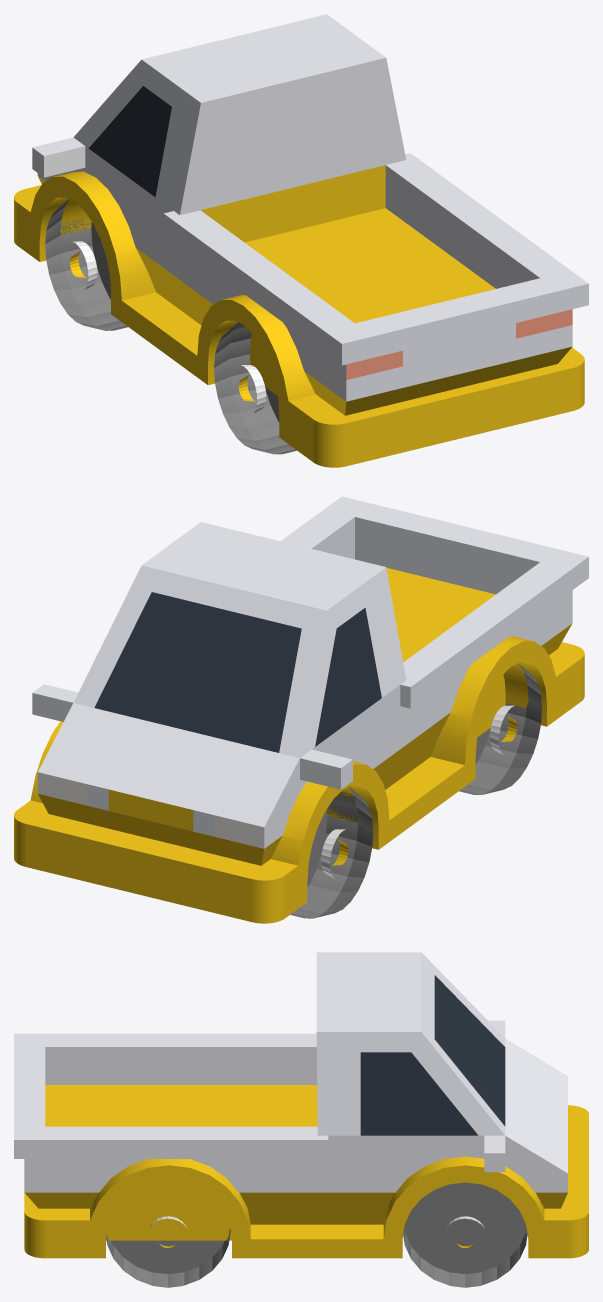
Rendered from truckFlat.glb.
3 views of the same model, one above another, from view 1: azimuth 30°, elevation 25°; view 2: azimuth 150°, elevation 25°; view 3: azimuth 270°, elevation 25° (orthographic). The views are drawn at different scales.
Parts seen in each view (by area): view 1: body; view 2: body; view 3: body.
Boxes of the visible parts, x1,y1,x2,y2 form: body: (14, 14, 588, 467); body: (14, 496, 588, 923); body: (14, 952, 588, 1287).
Bounding box in the file's own units: 1.5 × 1.3 × 2.75.
